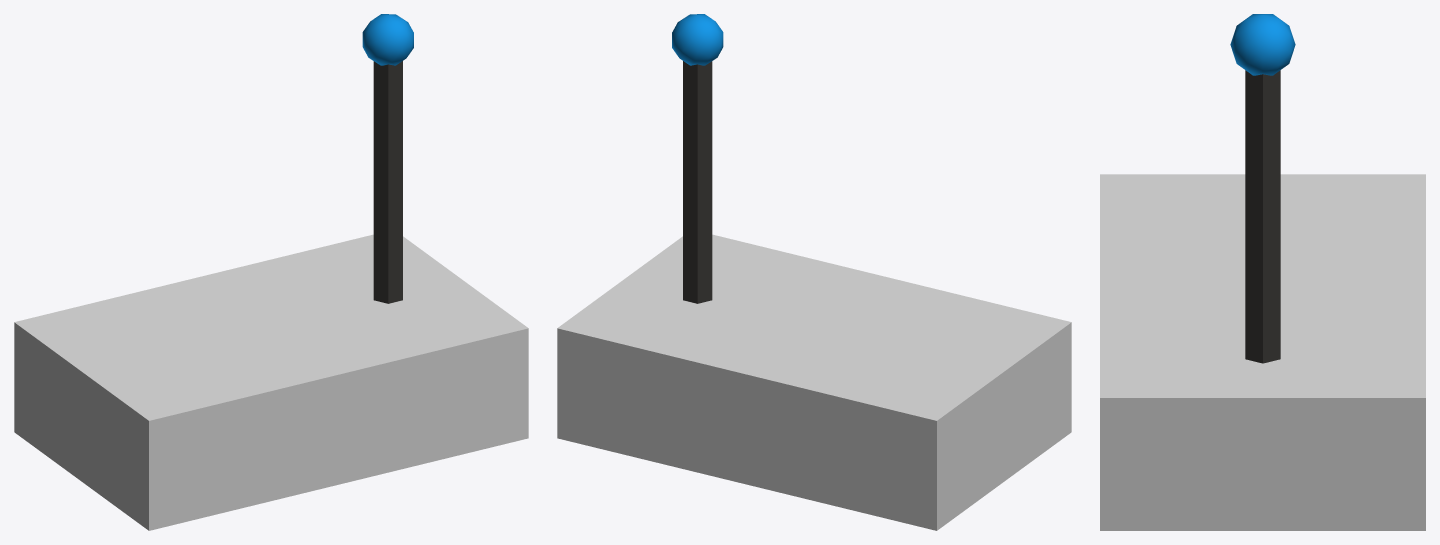
The model's file is D5_track_position_tracking.glb.
The picture shows the model from 3 angles, left to right: view 1: azimuth 30°, elevation 25°; view 2: azimuth 150°, elevation 25°; view 3: azimuth 270°, elevation 25°; orthographic projection. The views are drawn at different scales.
Visible parts, largest first — view 1: tracker_white, antenna_ink, sphere_blue; view 2: tracker_white, antenna_ink, sphere_blue; view 3: tracker_white, antenna_ink, sphere_blue.
Part boxes in pixels (x1,y1,x2,y2): tracker_white: [14, 234, 528, 530]; antenna_ink: [373, 61, 402, 303]; sphere_blue: [362, 14, 413, 65]; tracker_white: [557, 234, 1071, 530]; antenna_ink: [683, 61, 712, 303]; sphere_blue: [672, 14, 723, 65]; tracker_white: [1100, 174, 1425, 530]; antenna_ink: [1245, 70, 1280, 363]; sphere_blue: [1230, 14, 1295, 75].
Size of the model in its own units: 0.65 by 0.64 by 0.4.
